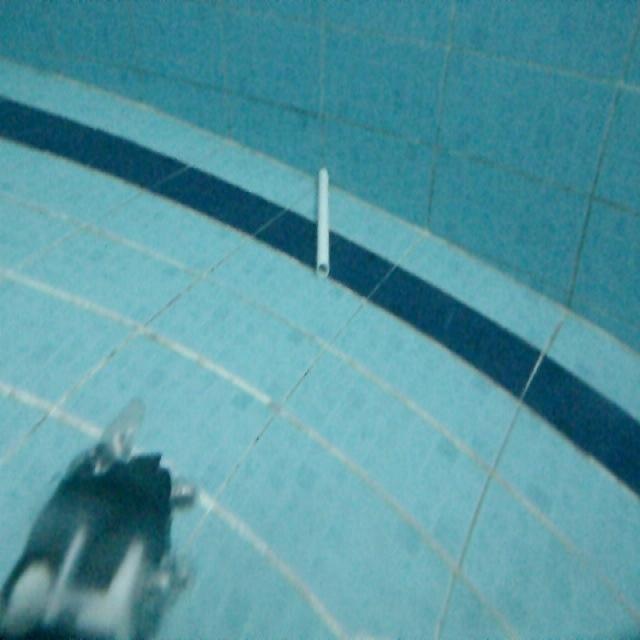Cube: (312, 162, 333, 278)
